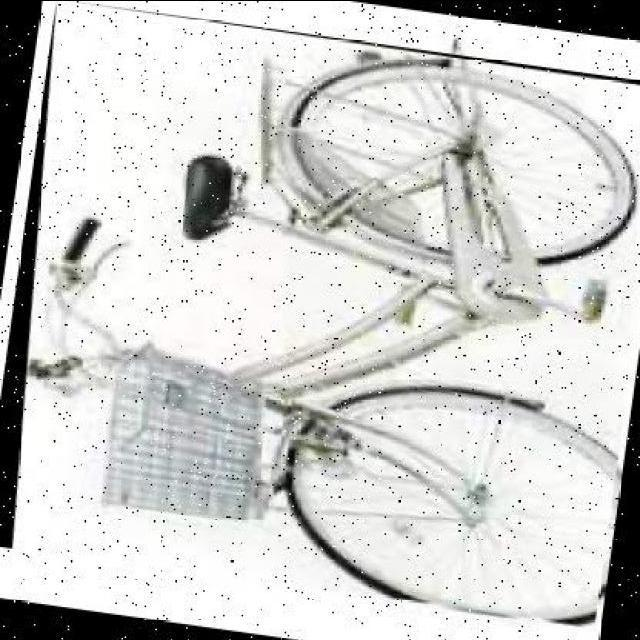bicycle: (1, 3, 639, 634)
